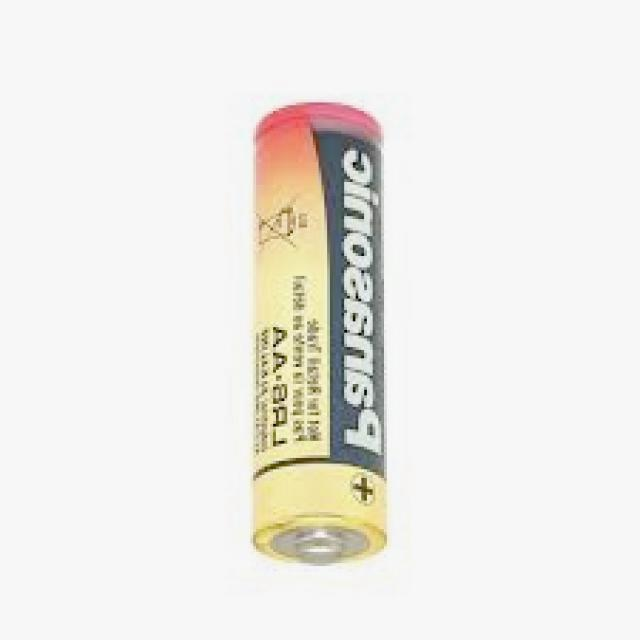battery: (251, 100, 387, 568)
